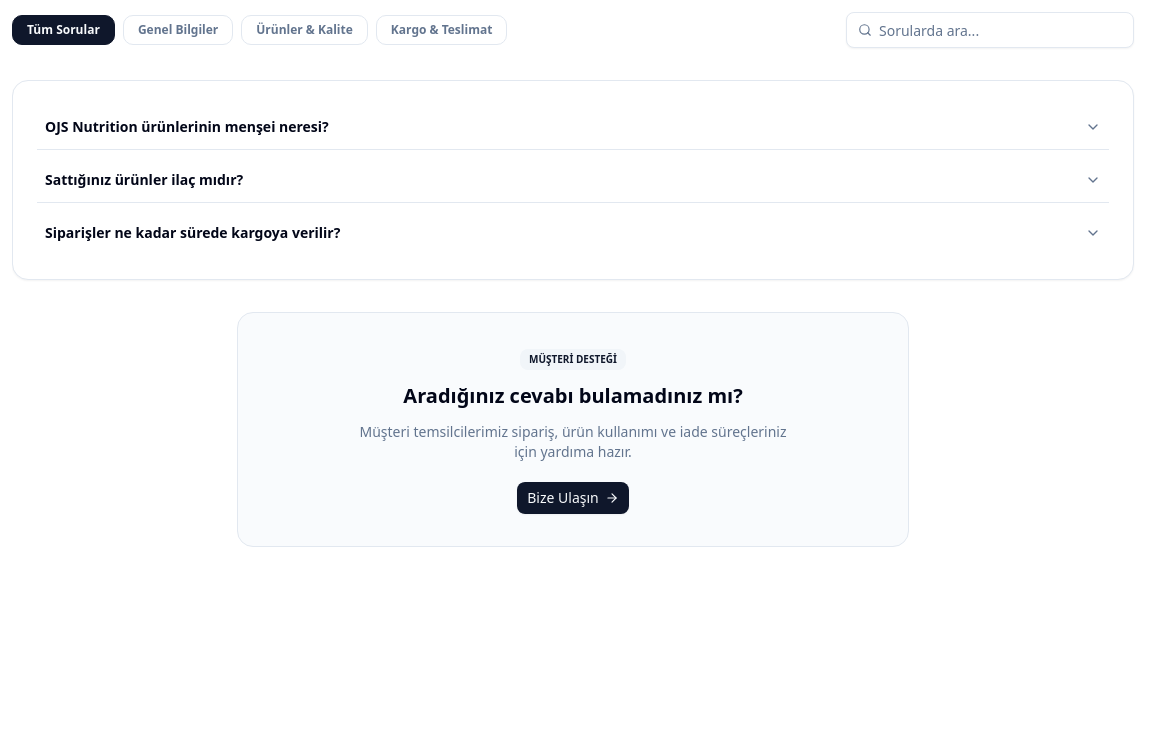
Test: FaqList Component › filters questions dynamically based on search query
In the search field with placeholder "Sorularda ara...": (990, 30) [846,12,1134,48], type "ilaç"
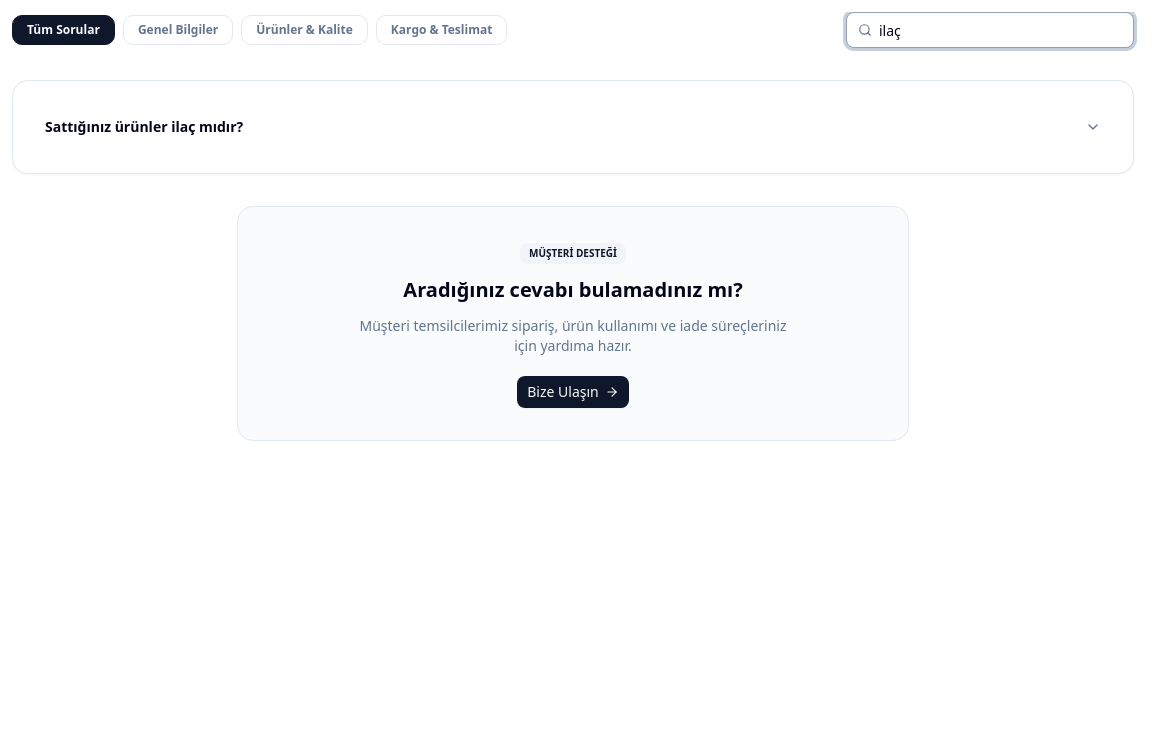
expect the text "Sattığınız ürünler ilaç mıdır?" is shown: met, box [45,117,243,137]
expect the button "OJS Nutrition ürünlerinin menşei neresi?" is gone: met
expect the button "Siparişler ne kadar sürede kargoya verilir?" is gone: met
